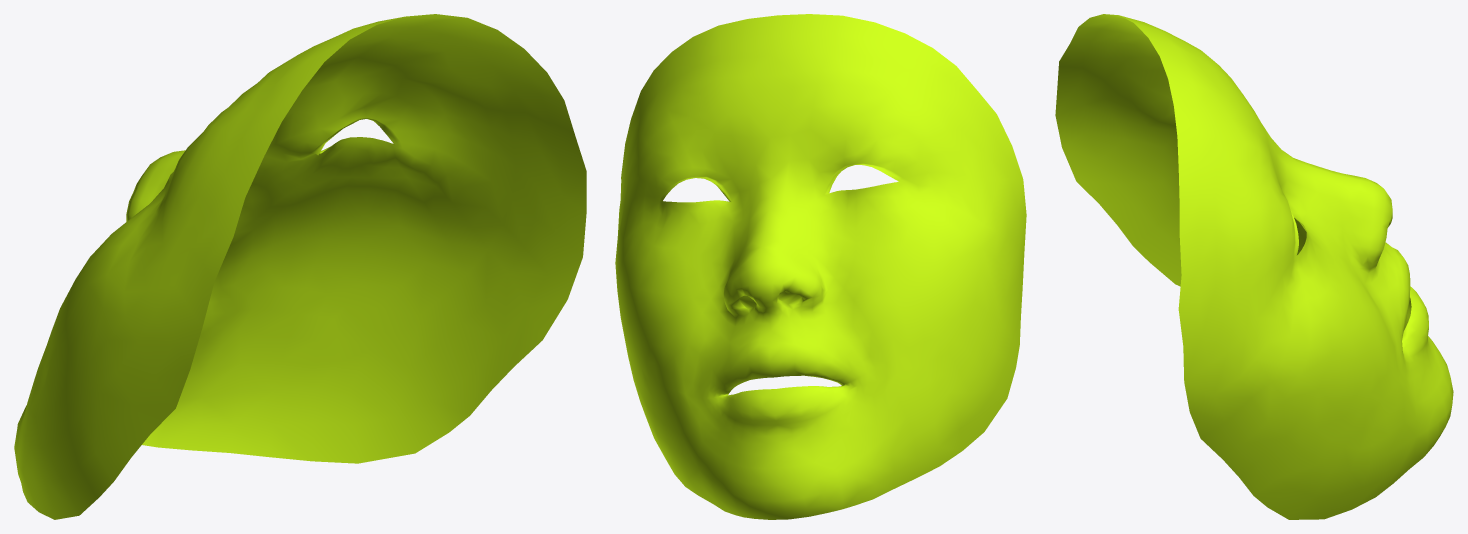
File: FaceMeshAscii.fbx
3 renders of one model, left to right at view 1: azimuth 30°, elevation 25°; view 2: azimuth 150°, elevation 25°; view 3: azimuth 270°, elevation 25°, orthographic. The views are drawn at different scales.
Visible parts, largest first — view 1: ARFace_B64B0E82BB76AF3F_FF93001C2EF954BD; view 2: ARFace_B64B0E82BB76AF3F_FF93001C2EF954BD; view 3: ARFace_B64B0E82BB76AF3F_FF93001C2EF954BD.
Boxes of the visible parts, x1,y1,x2,y2 form: ARFace_B64B0E82BB76AF3F_FF93001C2EF954BD: (14,14,586,519); ARFace_B64B0E82BB76AF3F_FF93001C2EF954BD: (615,14,1026,519); ARFace_B64B0E82BB76AF3F_FF93001C2EF954BD: (1055,14,1453,519).
Size of the model in its own units: 16 by 16.1 by 12.94.
